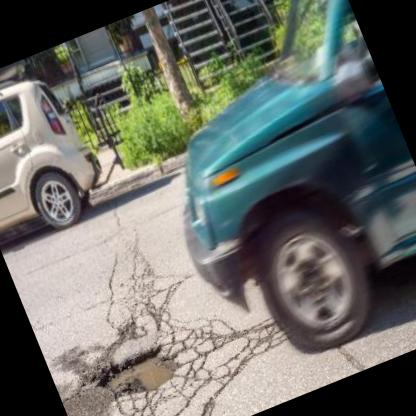pothole: (89, 338, 182, 408)
